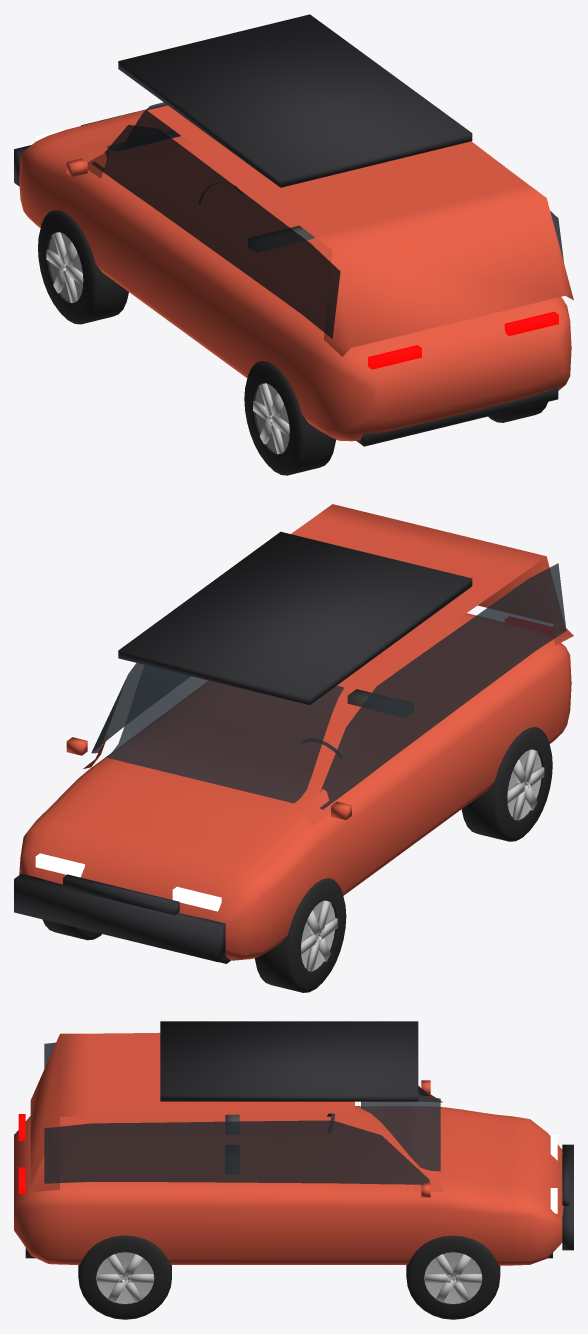
Rendered from car08_ridgeback.glb.
3 views of the same model, one above another, from view 1: azimuth 30°, elevation 25°; view 2: azimuth 150°, elevation 25°; view 3: azimuth 270°, elevation 25° (orthographic). The views are drawn at different scales.
Parts seen in each view (by area): view 1: car08_ridgeback_Body, car08_ridgeback_Cabin, car08_ridgeback_Glass, car08_ridgeback_Wheel_RL, car08_ridgeback_Wheel_FL, car08_ridgeback_Lights_Rear, car08_ridgeback_Interior, car08_ridgeback_GlassFront; view 2: car08_ridgeback_Body, car08_ridgeback_GlassFront, car08_ridgeback_Glass, car08_ridgeback_Cabin, car08_ridgeback_Wheel_RL, car08_ridgeback_Wheel_FL, car08_ridgeback_Lights_Front, car08_ridgeback_Interior; view 3: car08_ridgeback_Body, car08_ridgeback_Glass, car08_ridgeback_Cabin, car08_ridgeback_Wheel_FR, car08_ridgeback_Wheel_RR, car08_ridgeback_GlassFront, car08_ridgeback_Interior, car08_ridgeback_Lights_Rear.
Part boxes in pixels (x1,y1,x2,y2): car08_ridgeback_Body: (14,14,571,446); car08_ridgeback_Cabin: (87,105,573,356); car08_ridgeback_Glass: (91,125,563,338); car08_ridgeback_Wheel_RL: (244,361,336,475); car08_ridgeback_Wheel_FL: (38,210,128,324); car08_ridgeback_Lights_Rear: (368,311,558,369); car08_ridgeback_Interior: (248,225,314,252); car08_ridgeback_GlassFront: (106,102,180,150); car08_ridgeback_Body: (14,531,571,963); car08_ridgeback_GlassFront: (106,665,344,803); car08_ridgeback_Glass: (91,563,566,809); car08_ridgeback_Cabin: (83,504,573,825); car08_ridgeback_Wheel_RL: (461,727,552,841); car08_ridgeback_Wheel_FL: (254,878,346,992); car08_ridgeback_Lights_Front: (35,853,221,911); car08_ridgeback_Interior: (347,689,413,717); car08_ridgeback_Body: (14,1021,573,1265); car08_ridgeback_Glass: (44,1042,429,1184); car08_ridgeback_Cabin: (30,1032,443,1192); car08_ridgeback_Wheel_FR: (406,1235,500,1319); car08_ridgeback_Wheel_RR: (78,1235,171,1319); car08_ridgeback_GlassFront: (361,1092,440,1171); car08_ridgeback_Interior: (225,1114,239,1173); car08_ridgeback_Lights_Rear: (18,1114,25,1193).
Size of what is drawn, in the model's own units: 2.19 by 2.01 by 4.78.
